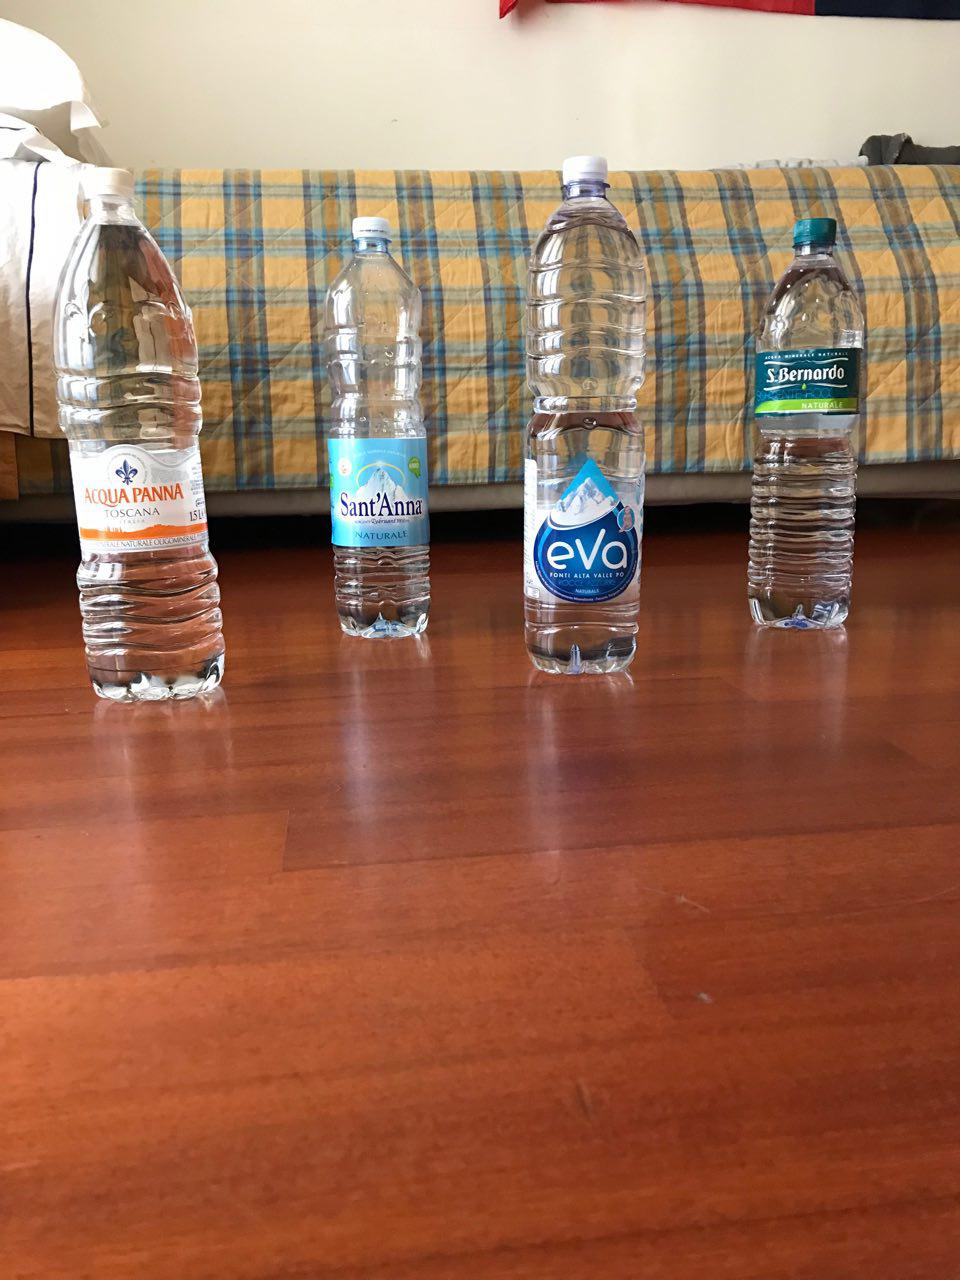san_bernardo: (745, 216, 865, 631)
